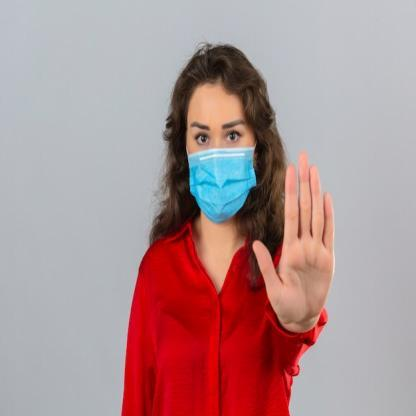stop: (249, 148, 336, 331)
